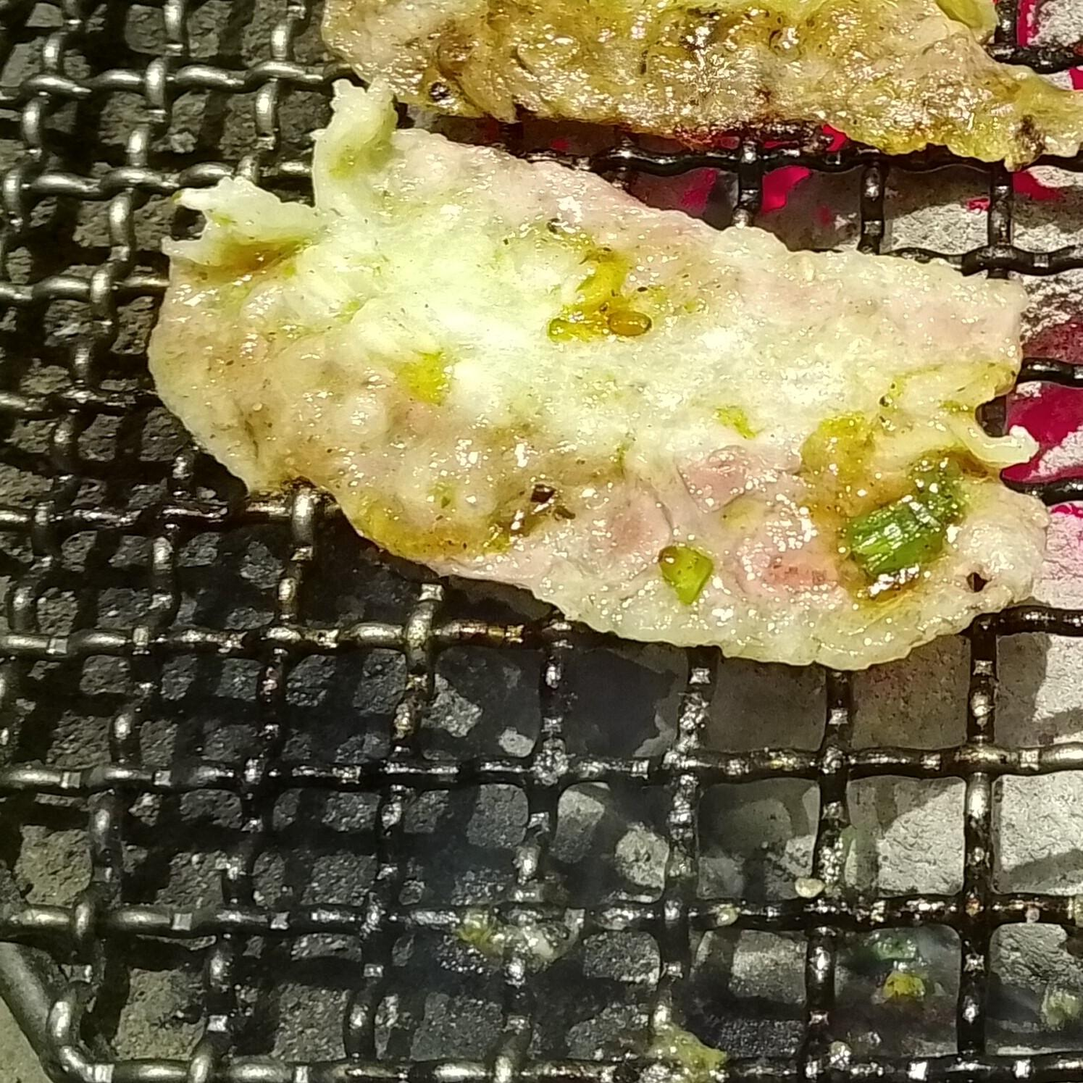Undercooked: (146, 81, 1082, 675)
Well-Cooked: (319, 0, 1082, 169)
